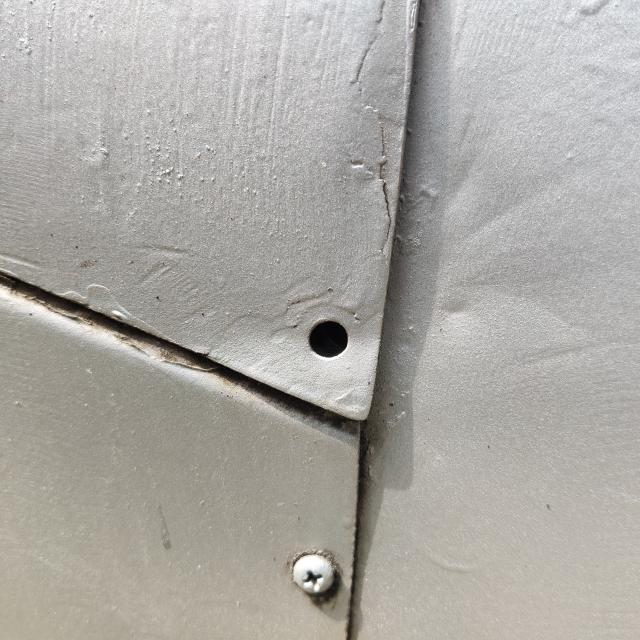missing-head: (271, 282, 397, 403)
